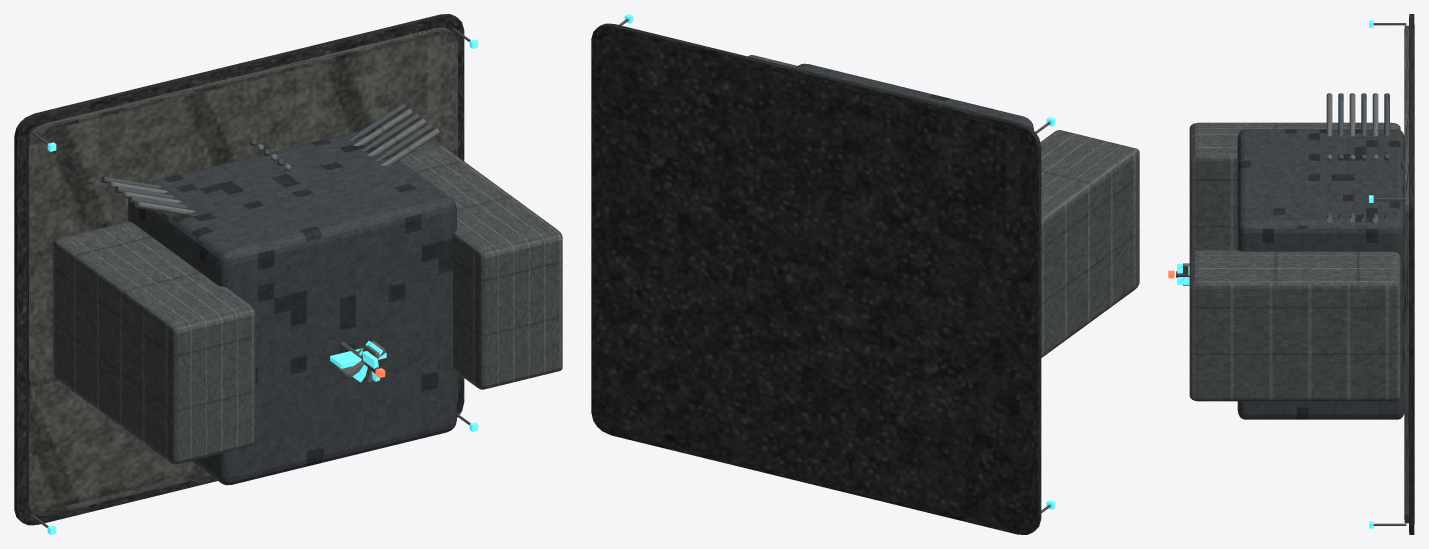
The model's file is b-26-cyber-lab-lod0.glb.
The picture shows the model from 3 angles, left to right: view 1: azimuth 30°, elevation 25°; view 2: azimuth 150°, elevation 25°; view 3: azimuth 270°, elevation 25°; orthographic projection. The views are drawn at different scales.
Parts seen in each view (by area): view 1: primary_data_cube, foundation_inner_pad, server_cooling_tower_-5.5, server_cooling_tower_5.5, foundation; view 2: foundation, server_cooling_tower_-5.5, primary_data_cube; view 3: server_cooling_tower_5.5, primary_data_cube, server_cooling_tower_-5.5, foundation, foundation_inner_pad.
Part boxes in pixels (x1,y1,x2,y2): primary_data_cube: (128,132,456,485); foundation_inner_pad: (26,27,457,515); server_cooling_tower_-5.5: (52,221,255,464); server_cooling_tower_5.5: (399,145,562,389); foundation: (14,14,464,525); foundation: (591,23,1041,534); server_cooling_tower_-5.5: (1040,130,1139,357); primary_data_cube: (795,63,1033,130); server_cooling_tower_5.5: (1189,250,1400,401); primary_data_cube: (1237,129,1404,419); server_cooling_tower_-5.5: (1189,122,1400,254); foundation: (1409,14,1414,534); foundation_inner_pad: (1404,25,1408,523).
Size of what is drawn, in the model's own units: 16 by 14 by 8.97.
9 materials, 9 textured.
